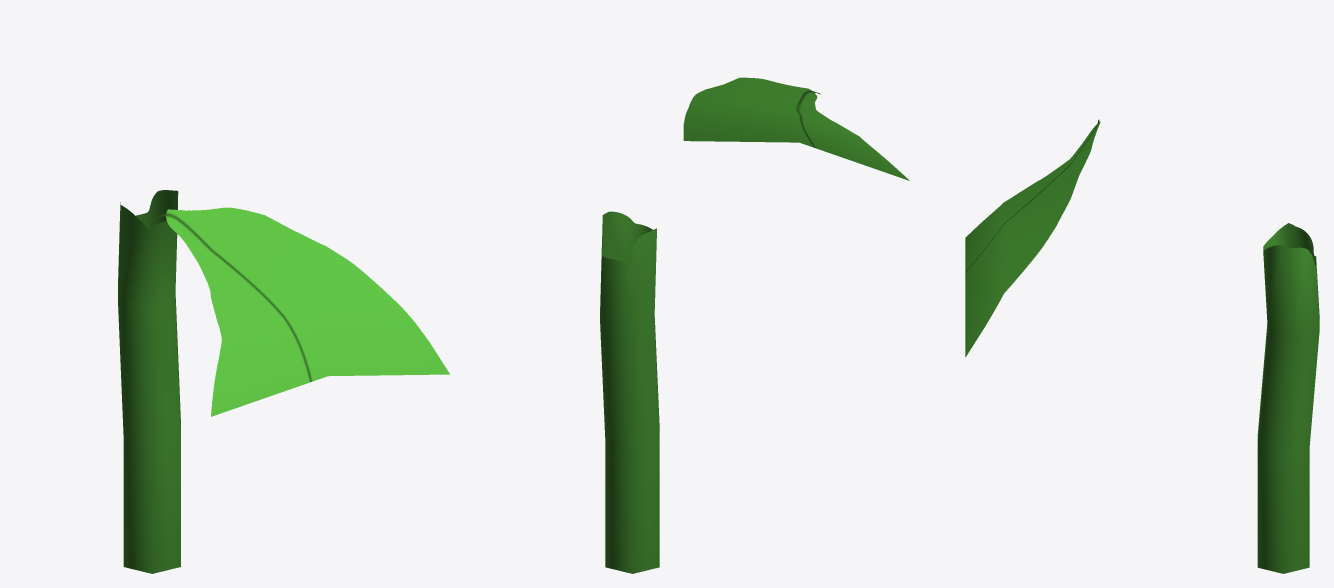
Rendered from plant.dae.
3 views of the same model, side by side, from view 1: azimuth 30°, elevation 25°; view 2: azimuth 150°, elevation 25°; view 3: azimuth 270°, elevation 25° (orthographic). The views are drawn at different scales.
Parts seen in each view (by area): view 1: plant_pPlane1, plant_pCylinder1; view 2: plant_pCylinder1, plant_pPlane1; view 3: plant_pCylinder1, plant_pPlane1.
Part boxes in pixels (bbox=[...]): plant_pPlane1: bbox=[158, 207, 449, 416]; plant_pCylinder1: bbox=[118, 190, 180, 573]; plant_pCylinder1: bbox=[600, 211, 659, 573]; plant_pPlane1: bbox=[683, 77, 909, 180]; plant_pCylinder1: bbox=[1257, 223, 1319, 573]; plant_pPlane1: bbox=[965, 119, 1100, 357].
Bounding box in the file's own units: 0.9214 × 1.67 × 1.08.
